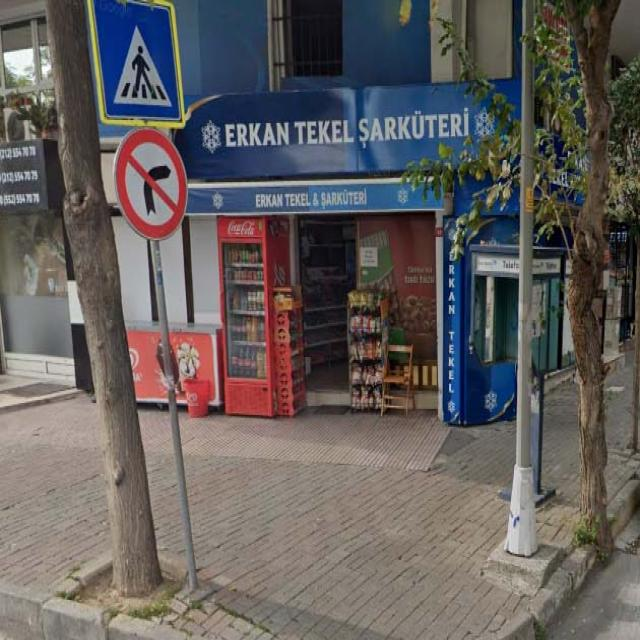sagadonulmez: (114, 129, 187, 240)
